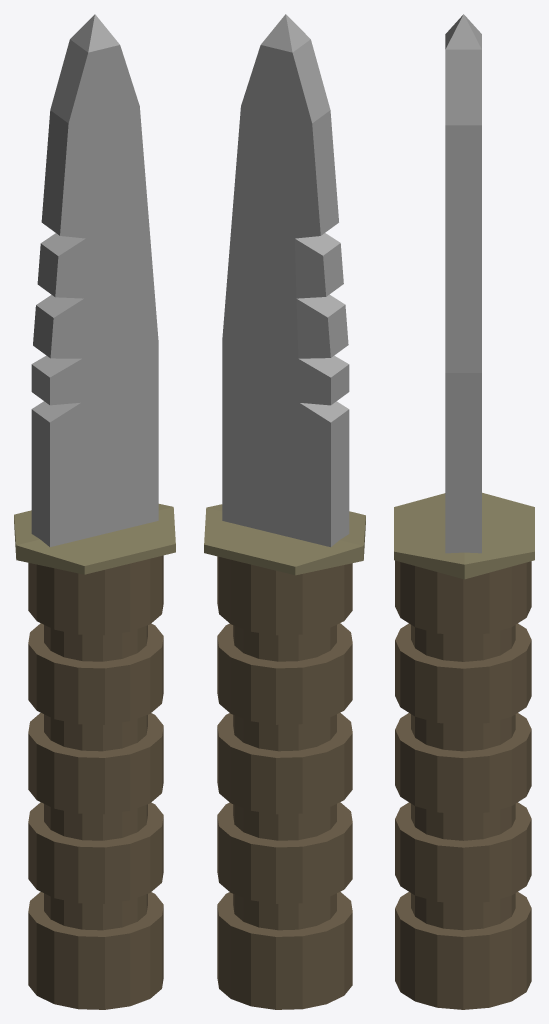
The model's file is knife.fbx.
The picture shows the model from 3 angles, left to right: view 1: azimuth 30°, elevation 25°; view 2: azimuth 150°, elevation 25°; view 3: azimuth 270°, elevation 25°; orthographic projection.
Visible parts, largest first — view 1: Cylinder; view 2: Cylinder; view 3: Cylinder.
Part boxes in pixels (x1=…): Cylinder: x1=14, y1=14, x2=175, y2=1009; Cylinder: x1=204, y1=14, x2=365, y2=1009; Cylinder: x1=394, y1=14, x2=534, y2=1009.
Size of the model in its own units: 26.21 by 154 by 20.3.
